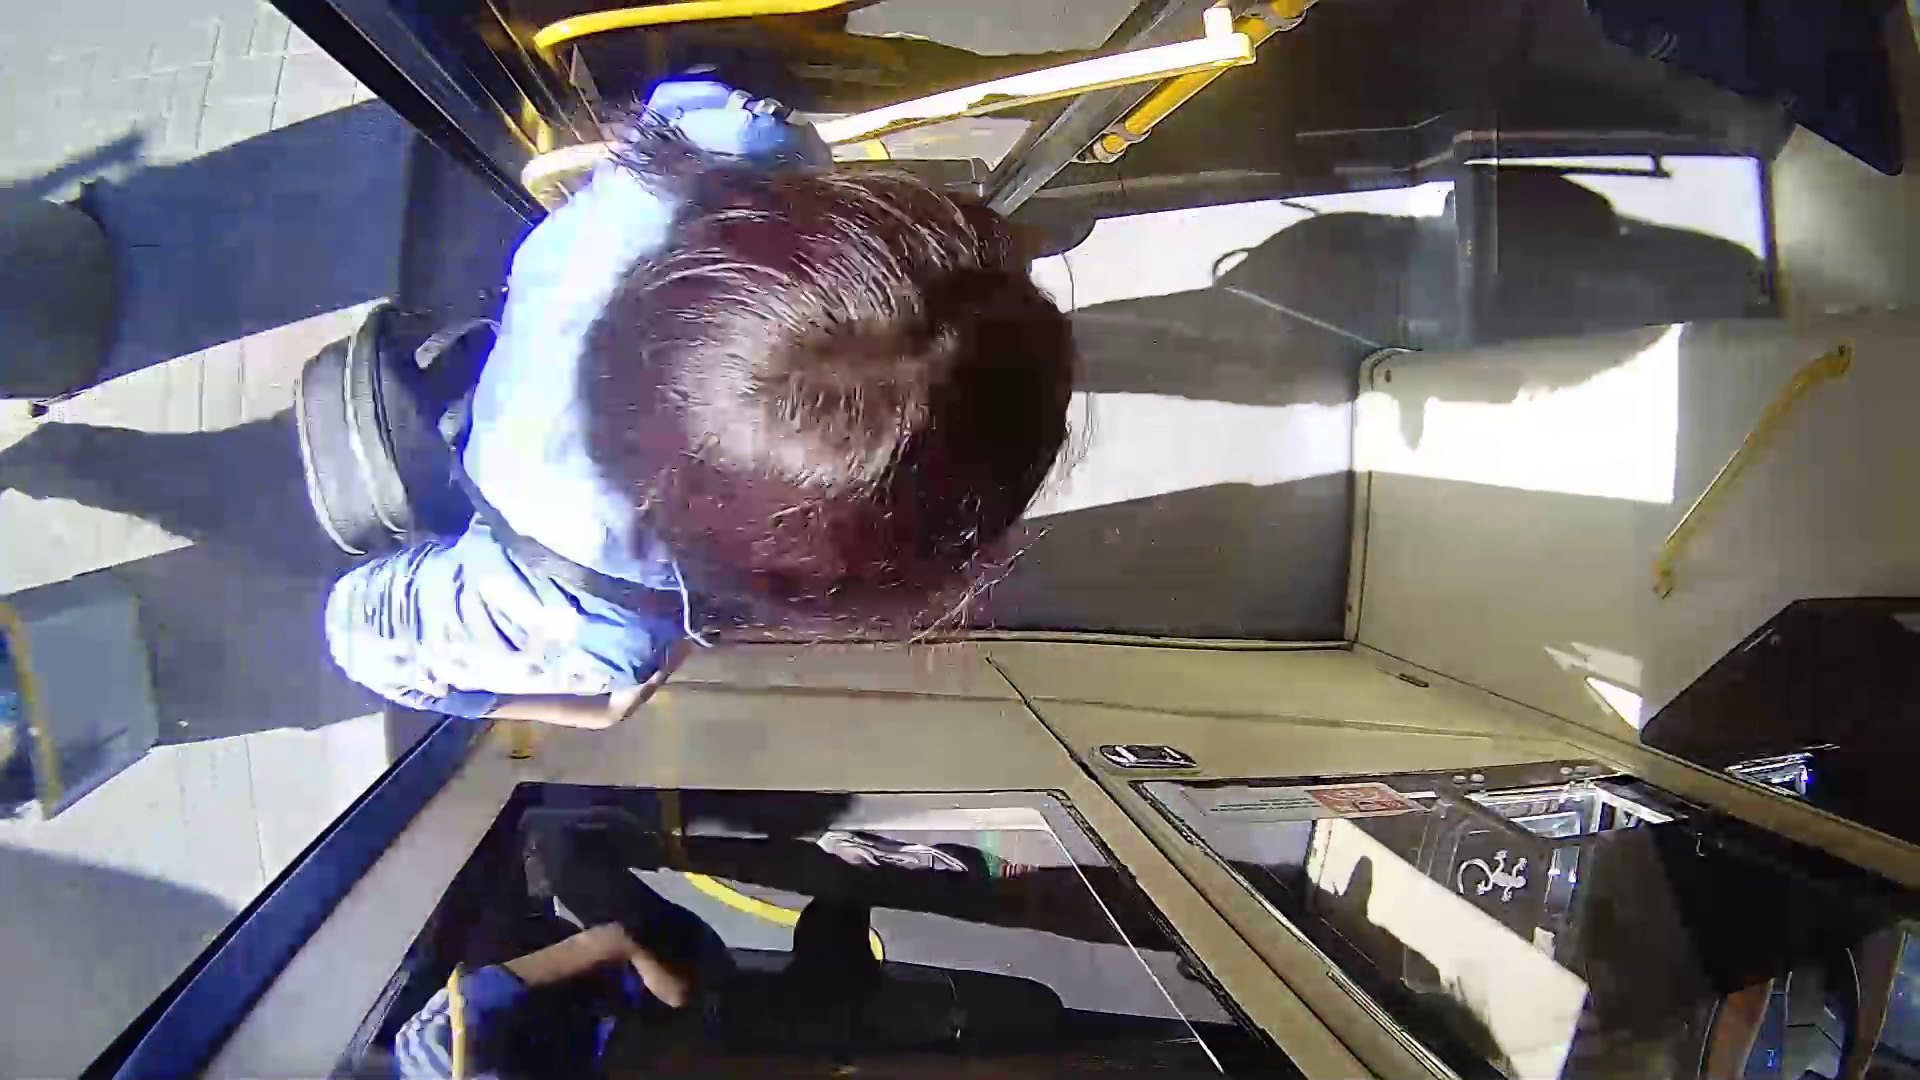person: (287, 111, 1107, 737)
